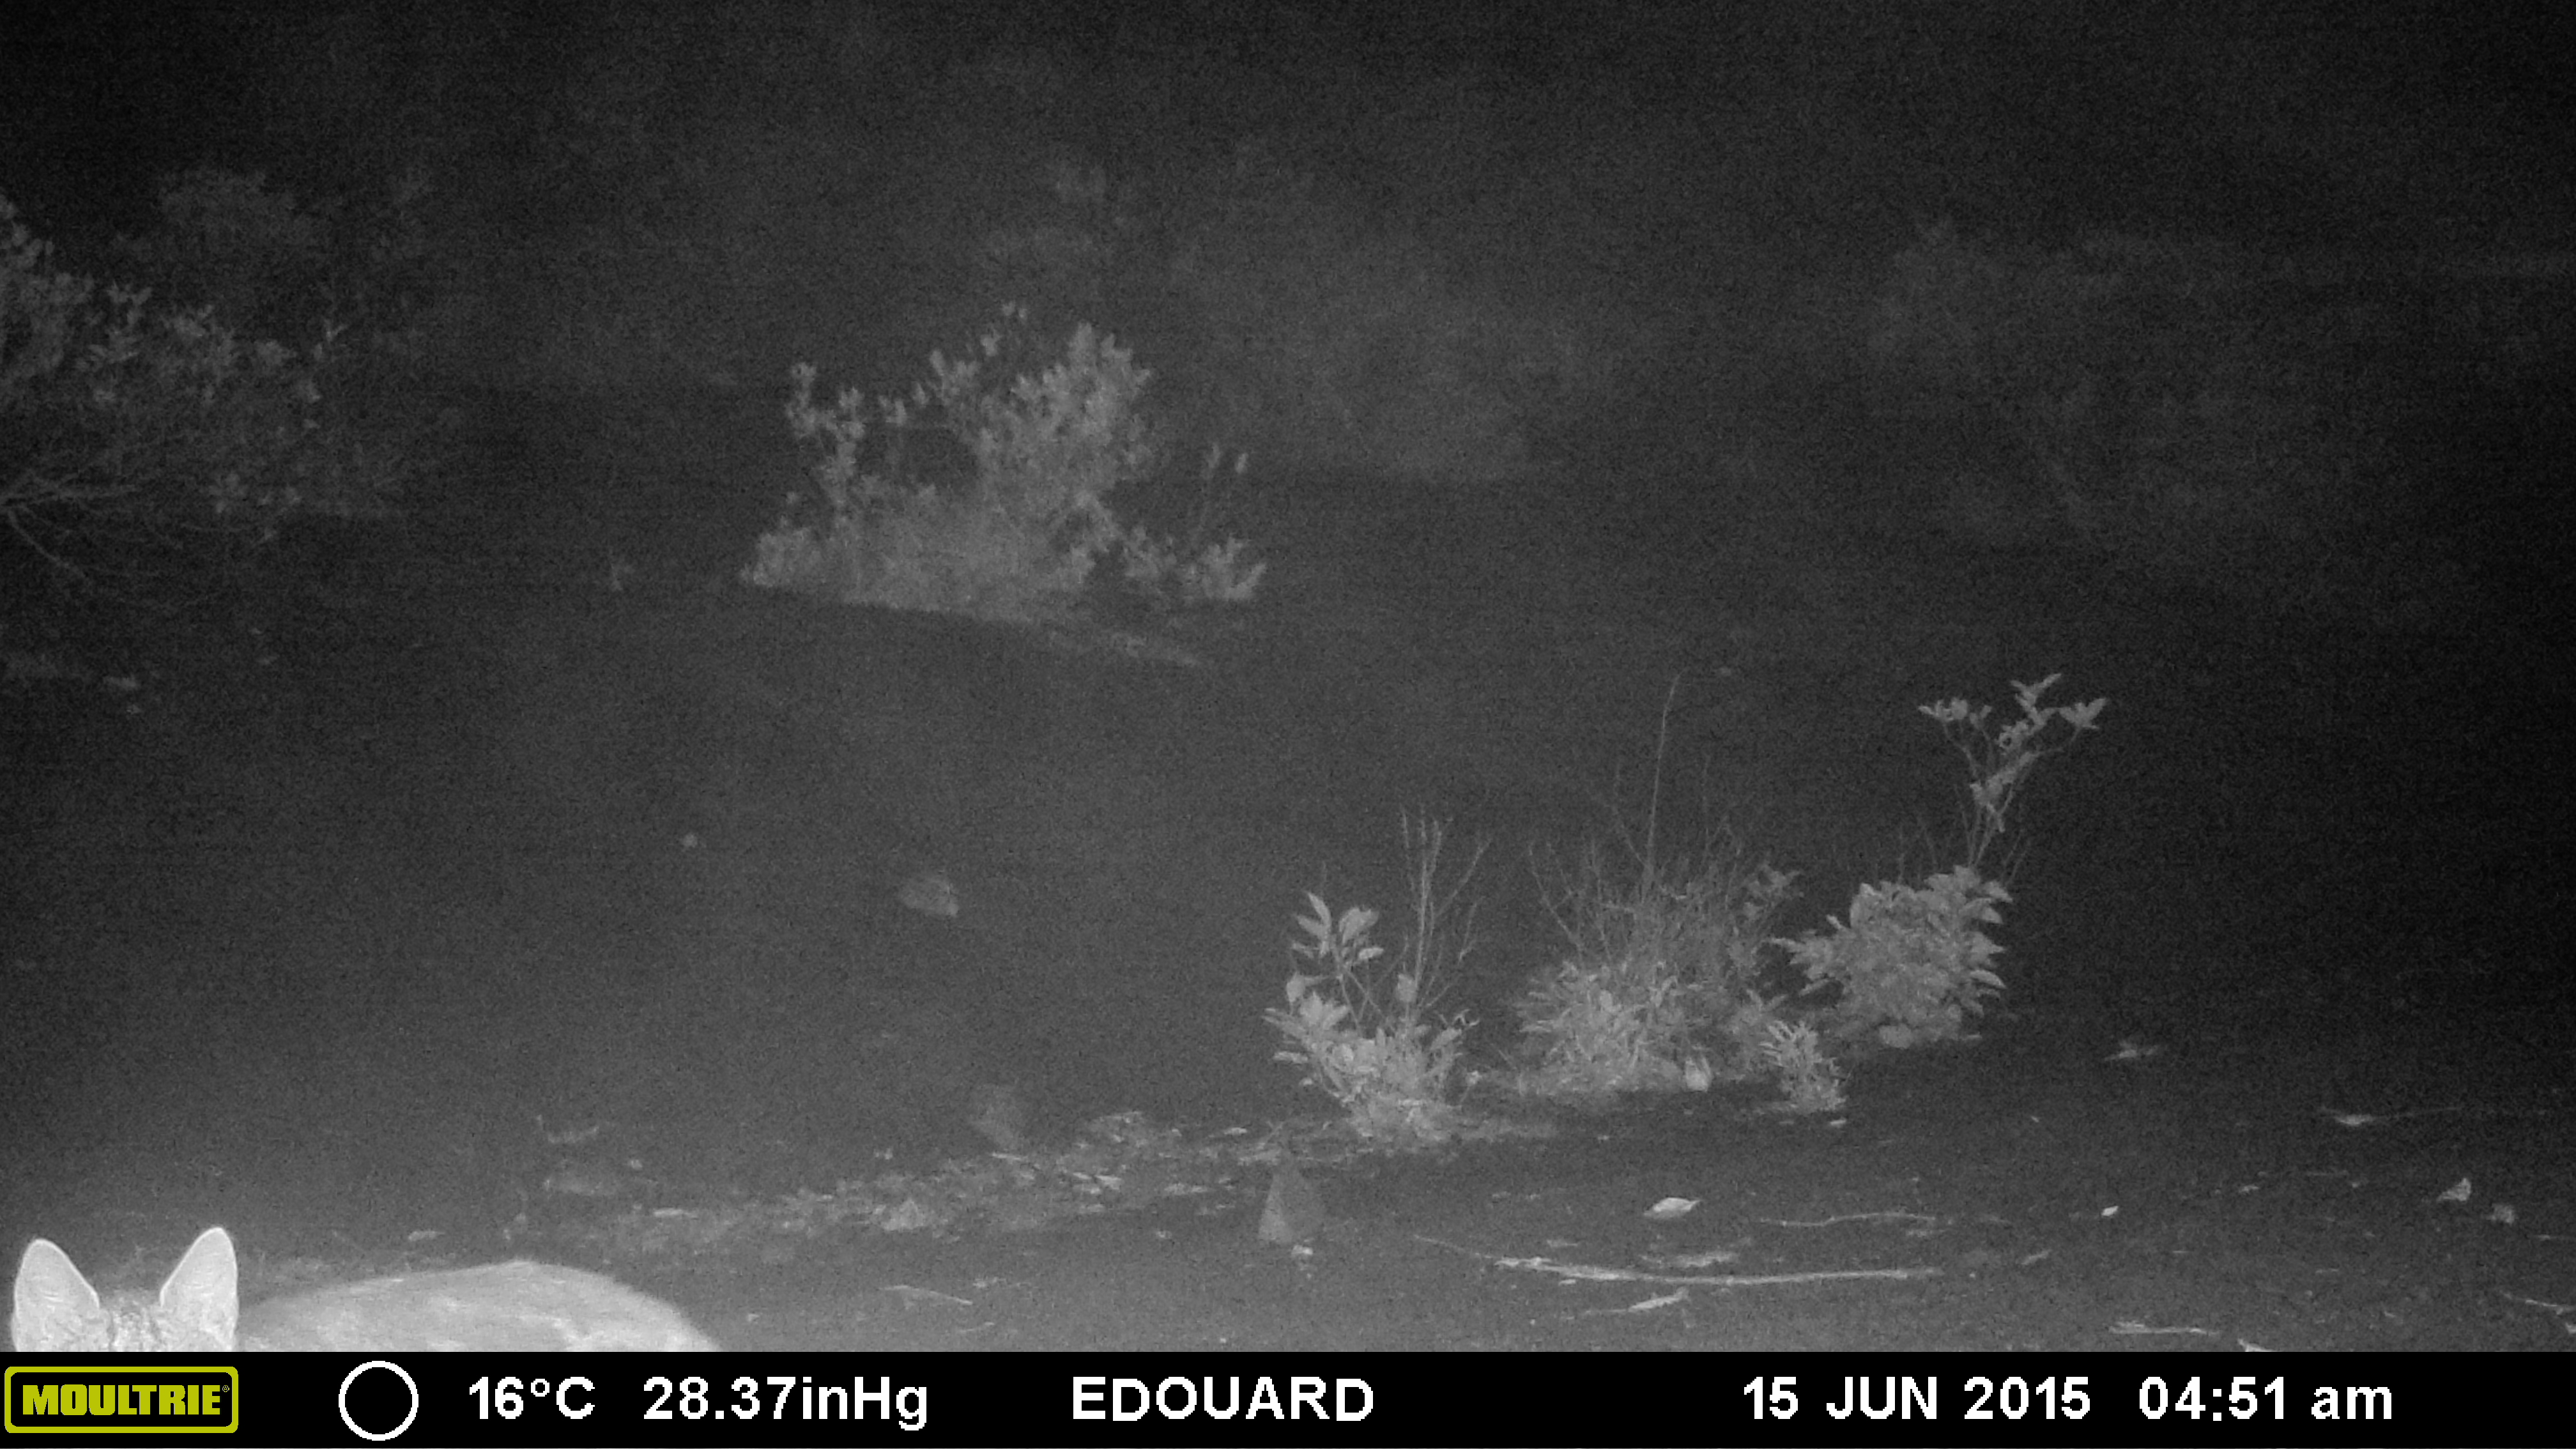cat: (5, 1233, 734, 1352)
